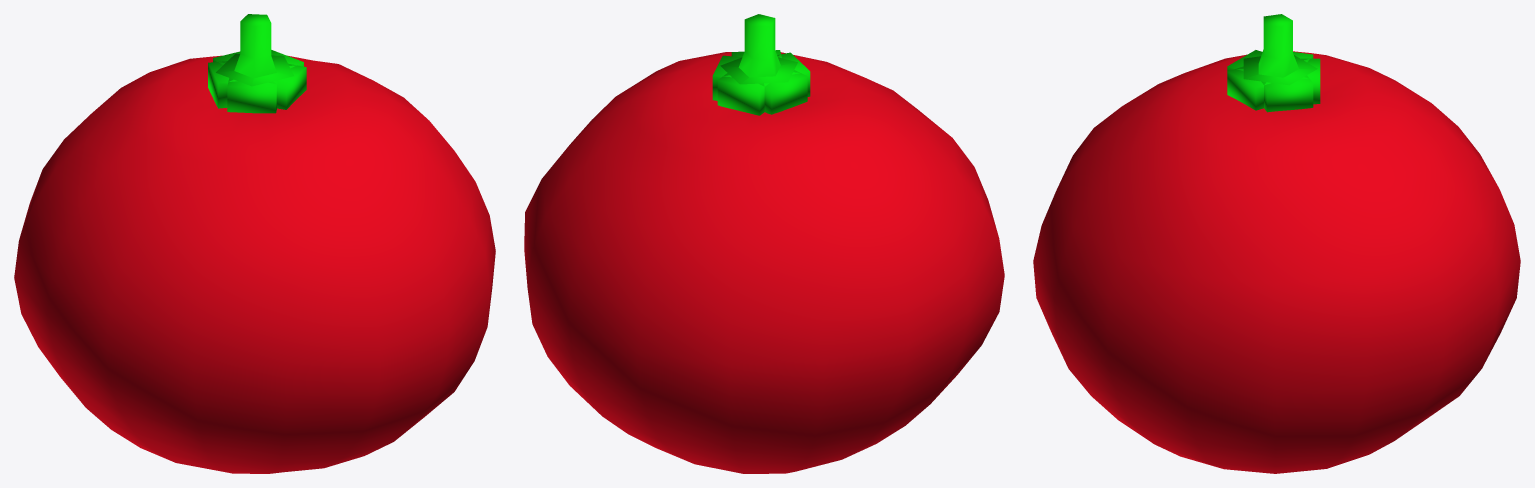
File: Tomato.fbx
3 renders of one model, left to right at view 1: azimuth 30°, elevation 25°; view 2: azimuth 150°, elevation 25°; view 3: azimuth 270°, elevation 25°, orthographic.
Parts seen in each view (by area): view 1: Sphere, Cylinder; view 2: Sphere, Cylinder; view 3: Sphere, Cylinder.
Part boxes in pixels (x1,y1,x2,y2): Sphere: [14, 55, 495, 473]; Cylinder: [208, 14, 306, 113]; Sphere: [524, 52, 1004, 473]; Cylinder: [712, 14, 810, 115]; Sphere: [1033, 51, 1520, 473]; Cylinder: [1227, 14, 1320, 112].
Bounding box in the file's own units: 121 × 119 × 124.
